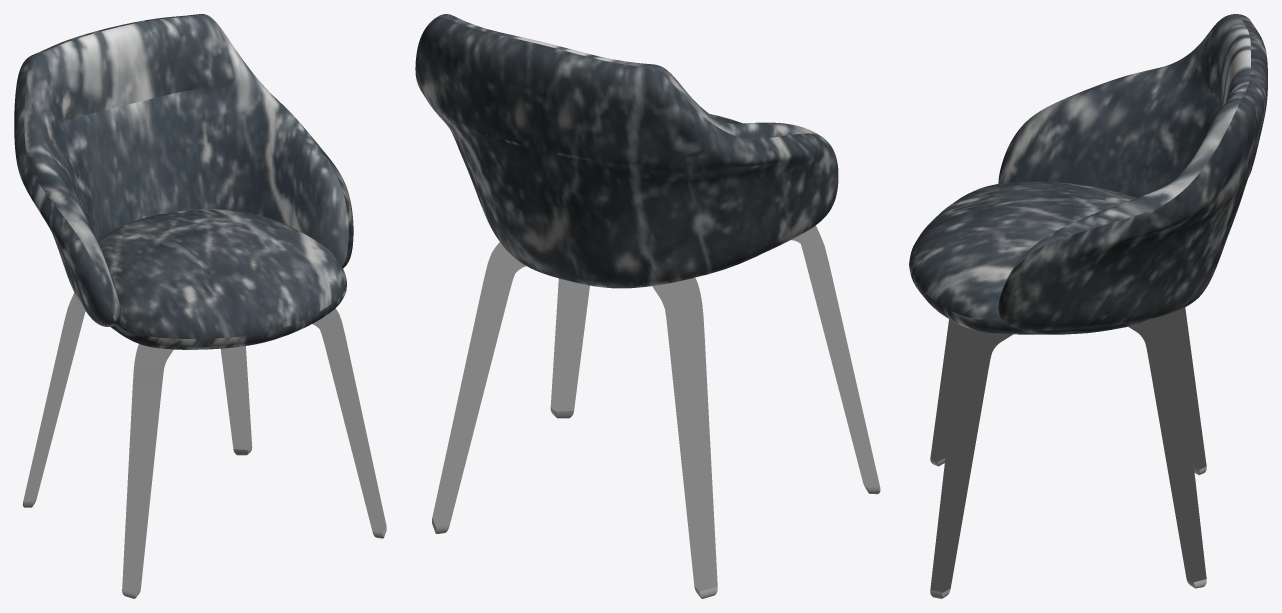
File: chair2.glb
The picture shows the model from 3 angles, left to right: view 1: azimuth 30°, elevation 25°; view 2: azimuth 150°, elevation 25°; view 3: azimuth 270°, elevation 25°; orthographic projection. The views are drawn at different scales.
Parts seen in each view (by area): view 1: Plane009, Box001, Line009, Line010; view 2: Plane009, Line010, Line009; view 3: Plane009, Box001, Line010, Line009.
Part boxes in pixels (left/top/right/bottom): Plane009: left=14, top=14, right=353, bottom=326; Box001: left=99, top=209, right=346, bottom=349; Line009: left=122, top=308, right=386, bottom=598; Line010: left=22, top=293, right=252, bottom=507; Plane009: left=415, top=14, right=838, bottom=288; Line010: left=432, top=242, right=717, bottom=598; Line009: left=550, top=225, right=880, bottom=494; Plane009: left=998, top=14, right=1267, bottom=330; Box001: left=909, top=181, right=1146, bottom=334; Line010: left=1128, top=307, right=1206, bottom=588; Line009: left=930, top=319, right=1012, bottom=598.
Bounding box in the file's own units: 0.5184 × 0.7734 × 0.5301.
3 materials, 1 textured.
